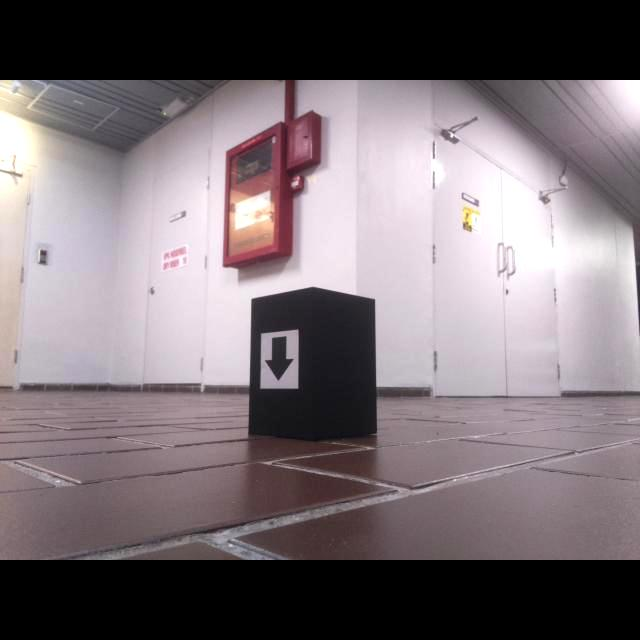DOWN: (263, 335, 295, 383)
